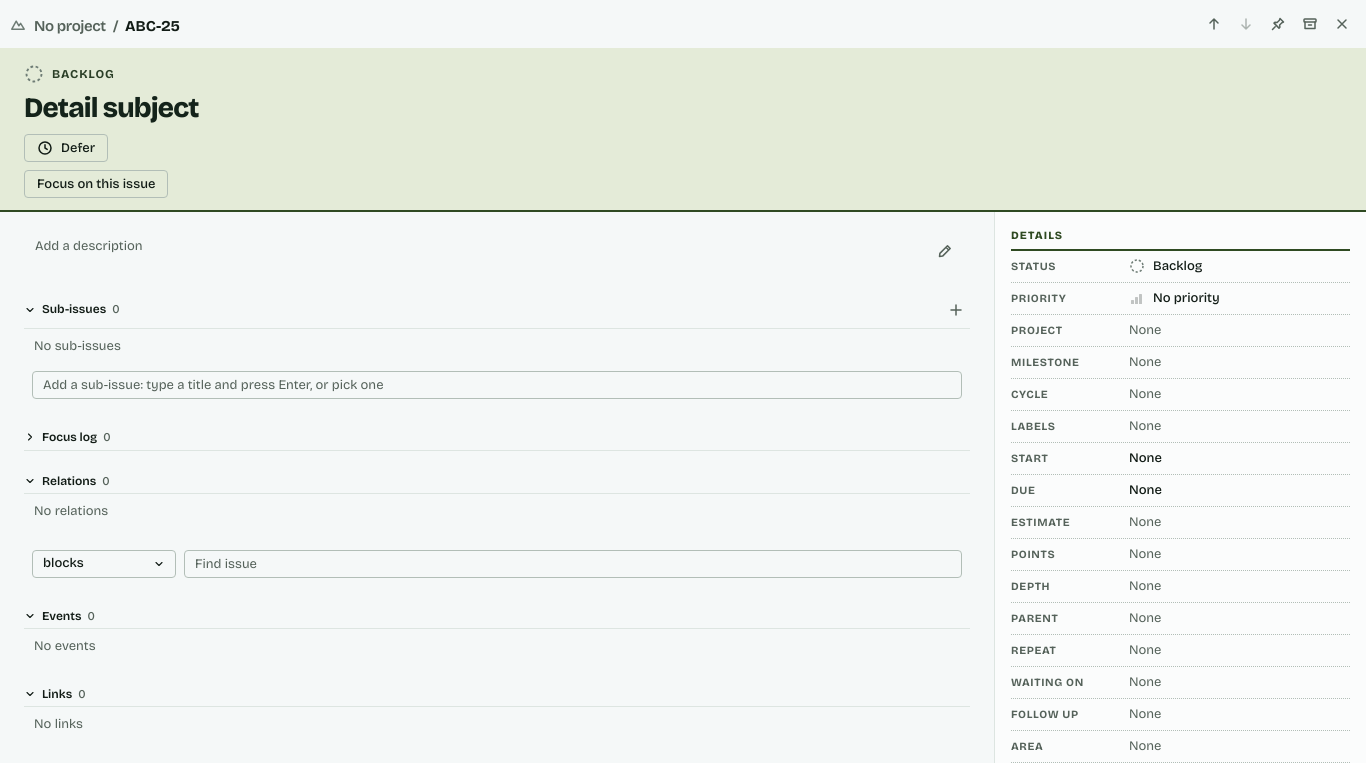
it: IssueDetail › priority_edit_calls_api_once_and_shows_value
The width and height of the screenshot is (1366, 763).
Click the button "No priority". click: (1232, 298)
box: [1123, 286, 1342, 310]
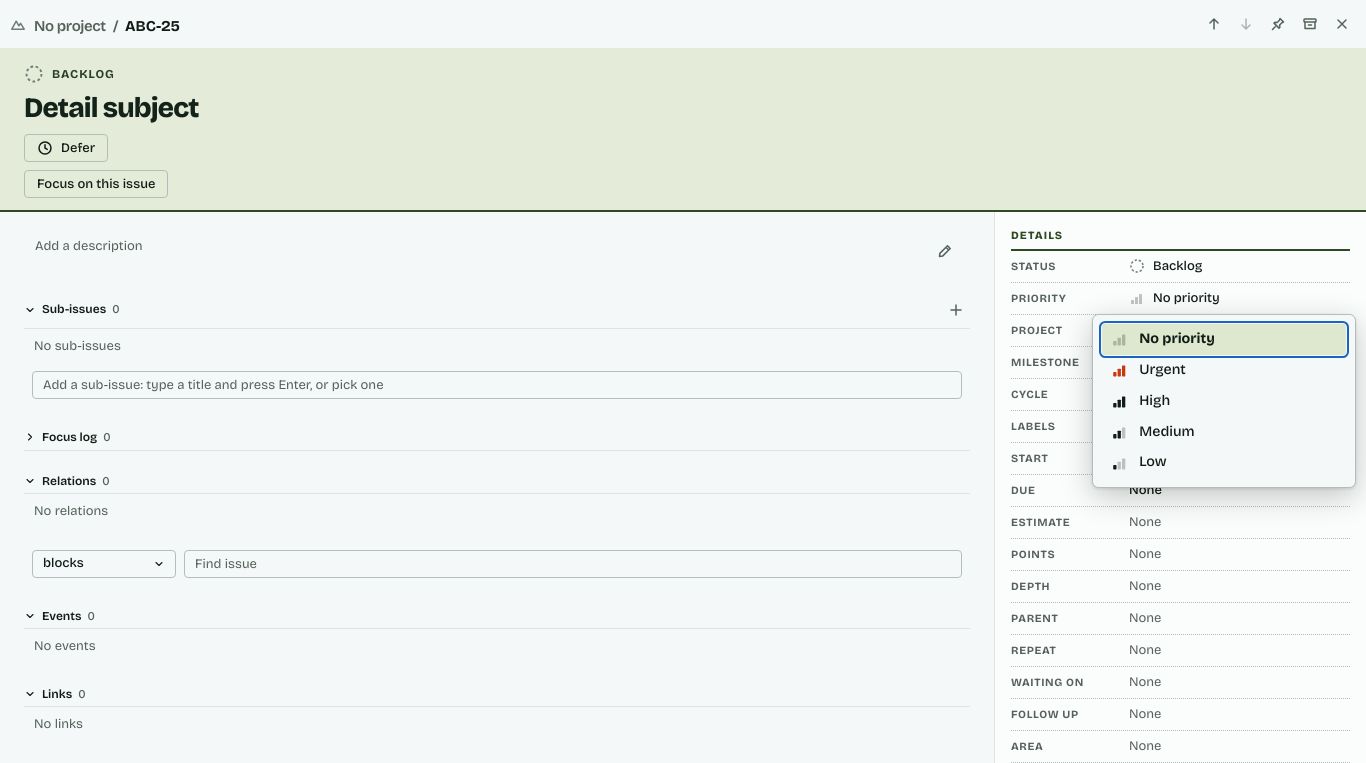
Click the option "High". click: (1224, 401)
box: [1102, 385, 1346, 416]
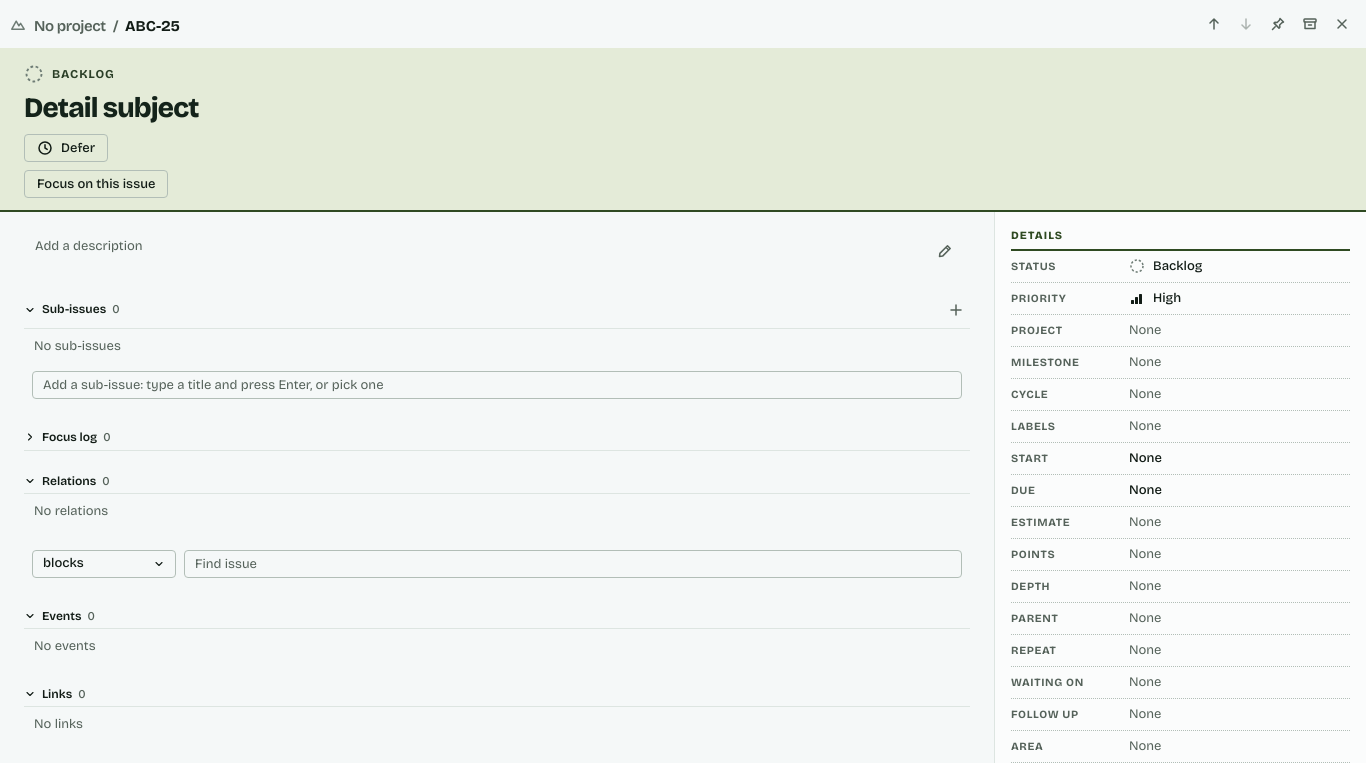
Expected: the button "High" is shown, [1123, 286, 1342, 310]
